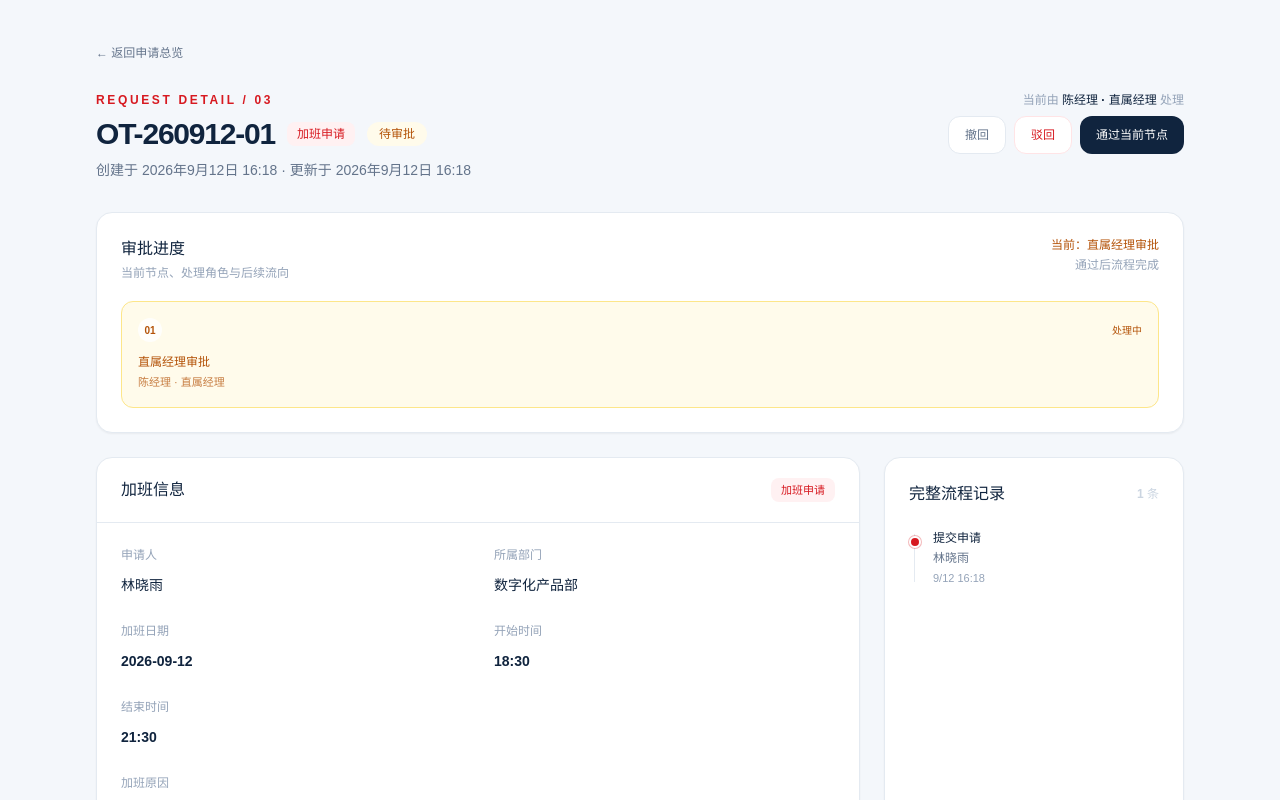
Test case: application detail page › rejects at the active process step
Step 1. Click the button "驳回" → coordinates (1043, 135), box [1014,116,1072,154]
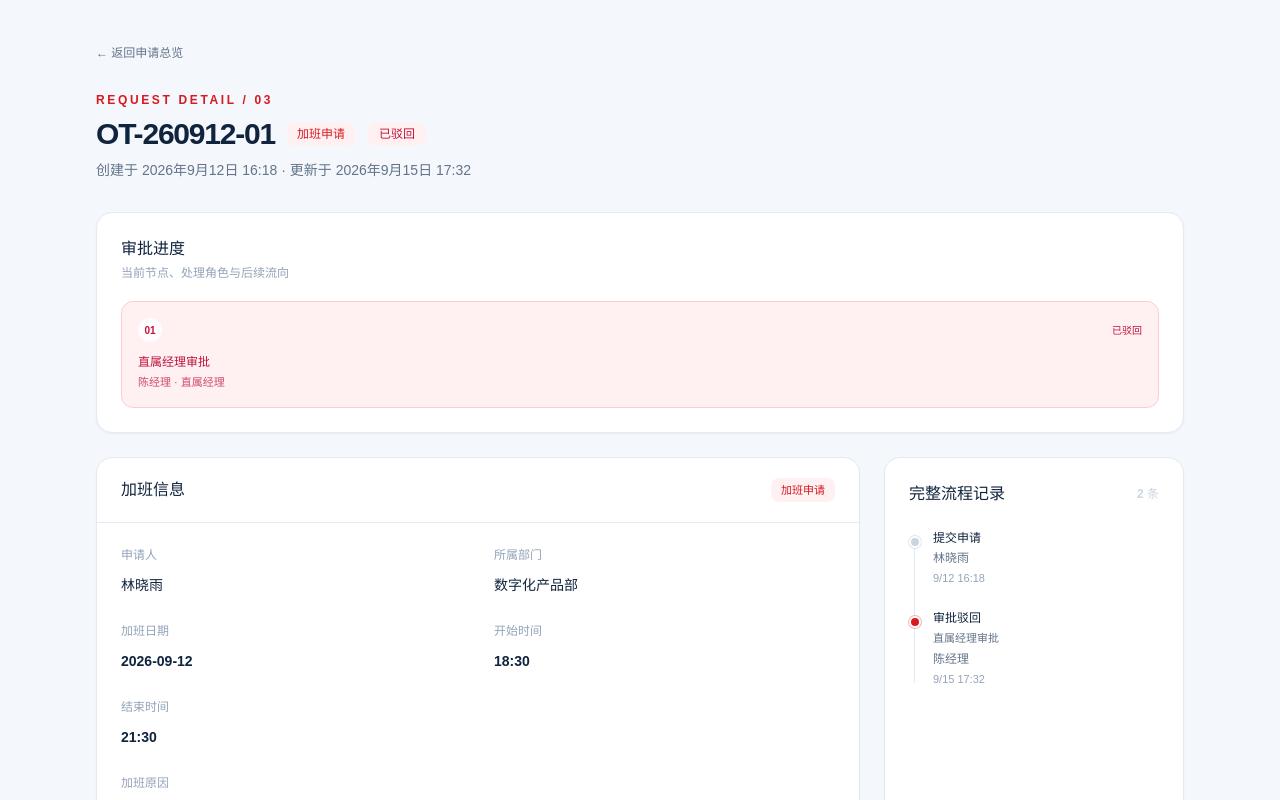
Now the text "审批驳回" is shown, box [933,611,981,625]
Now the text "已驳回" in the row of "OT-260912-01" is shown, box [379,127,415,141]
